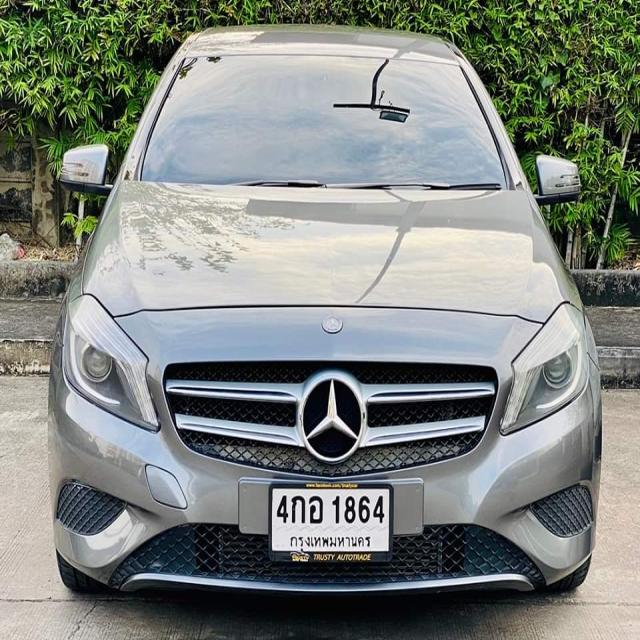license_plate: (267, 479, 395, 564)
